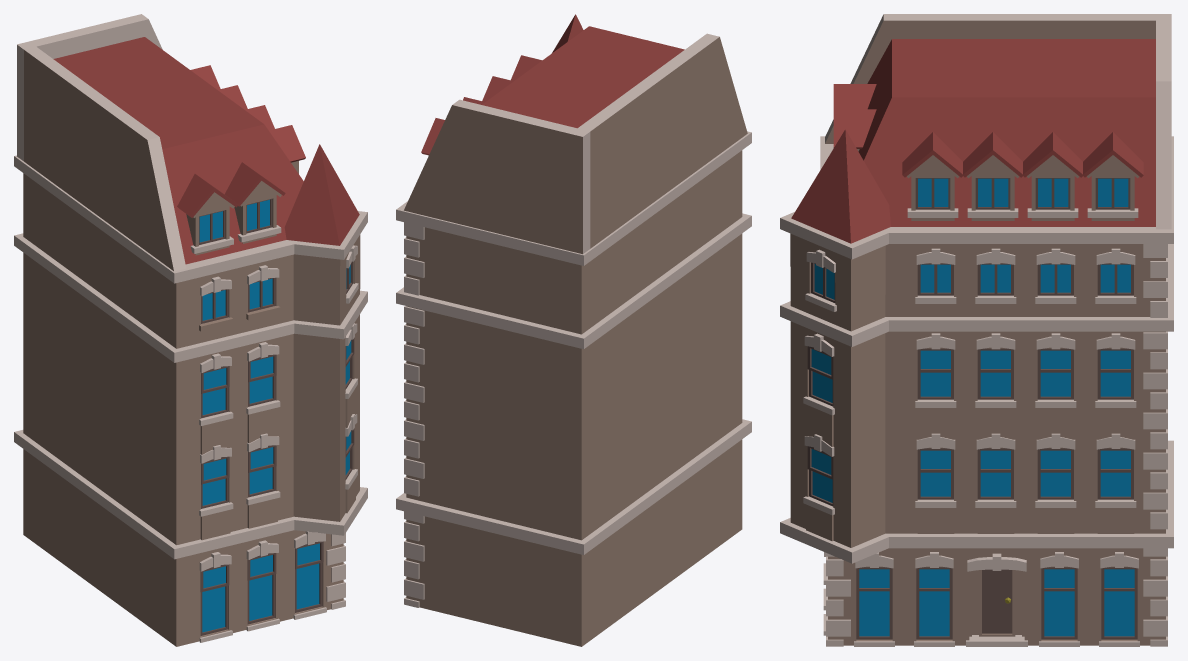
File: house04.fbx
3 renders of one model, left to right at view 1: azimuth 30°, elevation 25°; view 2: azimuth 150°, elevation 25°; view 3: azimuth 270°, elevation 25°, orthographic. The views are drawn at different scales.
Visible parts, largest first — view 1: _house04; view 2: _house04; view 3: _house04.
Boxes of the visible parts, box(x1,y1,x2,y2) form: _house04: box(14, 14, 367, 646); _house04: box(396, 14, 751, 646); _house04: box(780, 14, 1173, 646).
Bounding box in the file's own units: 85.01 × 191 × 126.
